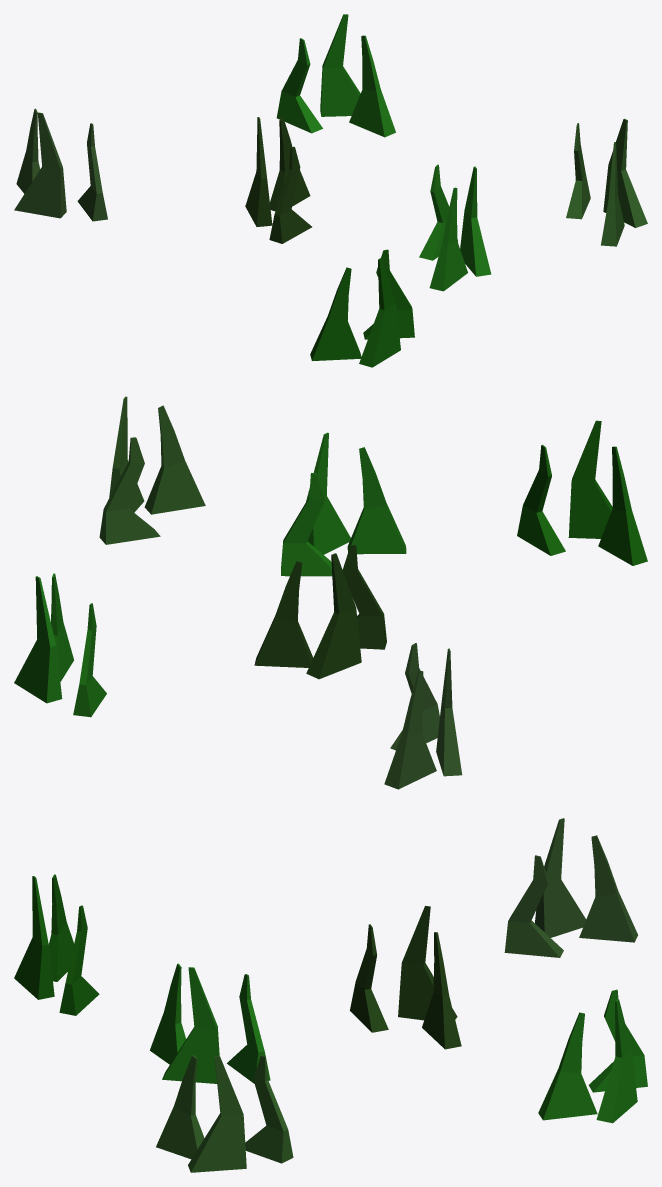
File: grass.glb
The picture shows the model from 3 angles, top to bottom: view 1: azimuth 30°, elevation 25°; view 2: azimuth 150°, elevation 25°; view 3: azimuth 270°, elevation 25°; orthographic projection. The views are drawn at different scales.
Visible parts, largest first — view 1: Cube.002, Cube.009, Cube.003, Cube.004, Cube.000, Cube.001; view 2: Cube.000, Cube.009, Cube.004, Cube.001, Cube.003, Cube.002; view 3: Cube.003, Cube.001, Cube.002, Cube.000, Cube.004, Cube.009.
Boxes of the visible parts, box(x1,y1,x2,y2) form: Cube.002: box(276, 14, 395, 137); Cube.009: box(310, 249, 414, 367); Cube.003: box(14, 108, 107, 221); Cube.004: box(419, 164, 491, 291); Cube.000: box(245, 117, 311, 243); Cube.001: box(566, 118, 647, 246); Cube.000: box(254, 545, 386, 679); Cube.009: box(517, 420, 647, 565); Cube.004: box(281, 432, 406, 576); Cube.001: box(99, 396, 205, 544); Cube.003: box(384, 643, 462, 789); Cube.002: box(14, 573, 106, 717); Cube.003: box(504, 818, 637, 957); Cube.001: box(156, 1055, 293, 1172); Cube.002: box(538, 989, 647, 1123); Cube.000: box(350, 905, 461, 1049); Cube.004: box(150, 963, 270, 1083); Cube.009: box(14, 874, 99, 1015).
Bounding box in the file's own units: 1.56 × 0.3159 × 1.64.
